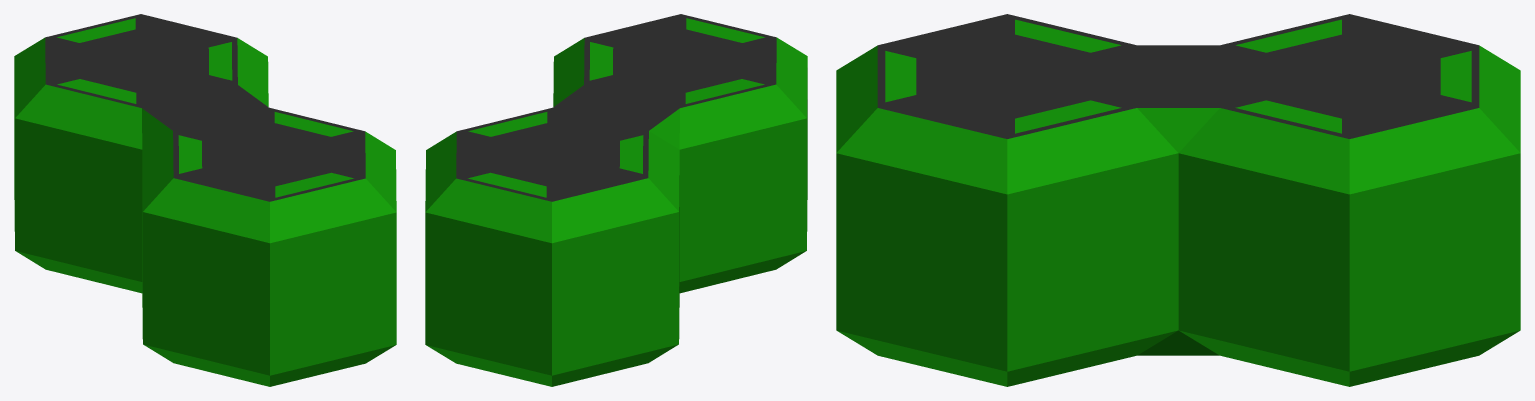
File: SM_Module_Armour2_BO.fbx
3 renders of one model, left to right at view 1: azimuth 30°, elevation 25°; view 2: azimuth 150°, elevation 25°; view 3: azimuth 270°, elevation 25°, orthographic. The views are drawn at different scales.
Parts seen in each view (by area): view 1: SM_Module_Armour2_BO; view 2: SM_Module_Armour2_BO; view 3: SM_Module_Armour2_BO.
Boxes of the visible parts, box(x1,y1,x2,y2) form: SM_Module_Armour2_BO: box(14, 14, 396, 386); SM_Module_Armour2_BO: box(425, 14, 807, 386); SM_Module_Armour2_BO: box(836, 14, 1520, 386).
Bounding box in the file's own units: 4 × 7 × 2.8.
